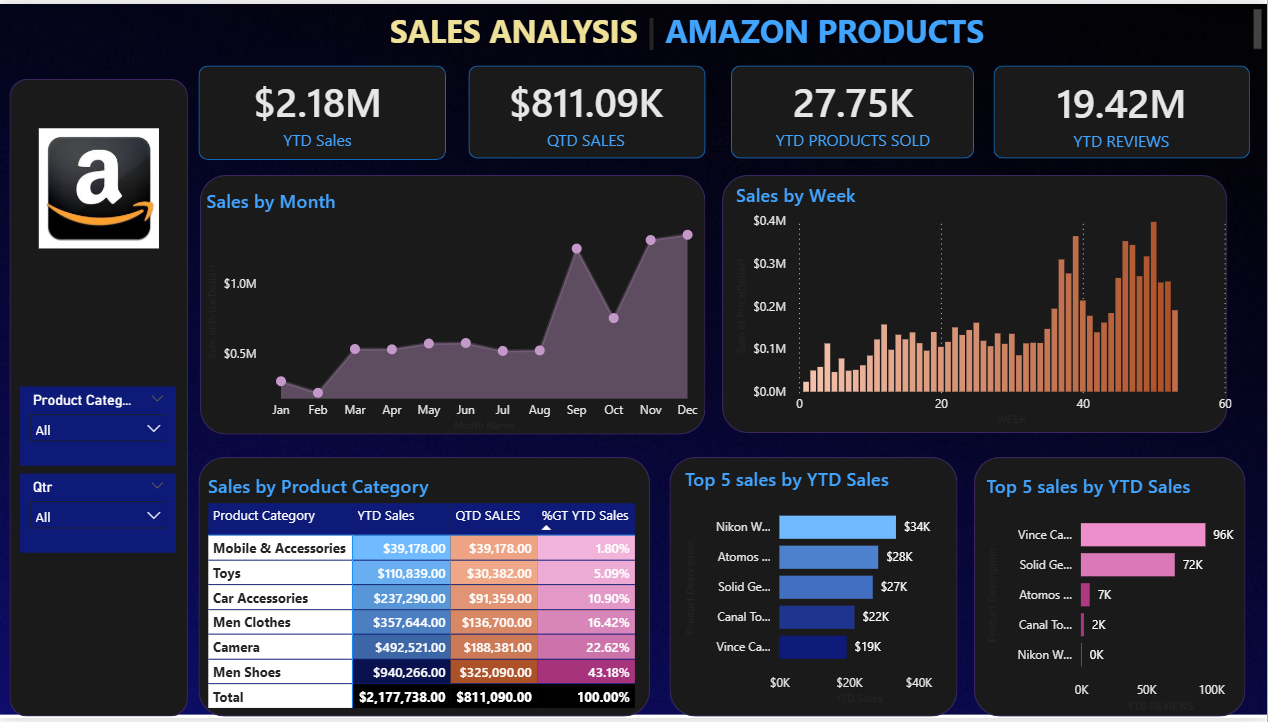

The page's visual inventory and layout, read from the dashboard file:
{"tool":"powerbi","page":{"name":"Page 1","canvas":[1280,720],"ordinal":0},"visuals":[{"type":"shape","box":[10.6,75.7,180.2,643.5],"z":0},{"type":"textbox","box":[389.2,0,890.4,51.5],"z":1000},{"type":"shape","box":[201.4,62.1,249.8,95.4],"z":2000},{"type":"card","fields":{"Values":["Amazon_Combined_Data xlsx - Ama.YTD Sales"]},"box":[190.8,60.6,260.4,95.4],"z":3000},{"type":"shape","box":[473.9,62.1,239.2,93.9],"z":3500},{"type":"card","fields":{"Values":["Amazon_Combined_Data xlsx - Ama.QTD SALES"]},"box":[470.9,60.6,242.3,95.4],"z":4000},{"type":"shape","box":[738.9,62.1,245.3,93.9],"z":6000},{"type":"shape","box":[1003.9,62.1,258.9,93.9],"z":7000},{"type":"card","fields":{"Values":["Amazon_Combined_Data xlsx - Ama.YTD PRODUCTS SOLD"]},"box":[731.4,60.6,260.4,95.4],"z":7001},{"type":"card","fields":{"Values":["Amazon_Combined_Data xlsx - Ama.YTD REVIEWS"]},"box":[1002.4,62.1,260.4,95.4],"z":7002},{"type":"shape","box":[202.9,172.6,510.3,262],"z":7003},{"type":"areaChart","title":"Sales by Month","fields":{"Category":["Date Table.Month Name"],"Y":["Amazon_Combined_Data xlsx - Ama.Price(Dollar)"]},"box":[204.4,186.2,510.3,249.8],"z":7004},{"type":"shape","box":[729.8,172.6,510.3,260.4],"z":7005},{"type":"columnChart","title":"Sales by Week","fields":{"Category":["Date Table.WEEK"],"Y":["Amazon_Combined_Data xlsx - Ama.Price(Dollar)"]},"box":[738.9,180.2,510.3,249.8],"z":7006},{"type":"shape","box":[201.4,457.3,455.8,262],"z":7007},{"type":"pivotTable","title":"Sales by Product Category","fields":{"Rows":["Amazon_Combined_Data xlsx - Ama.Product Category"],"Values":["Amazon_Combined_Data xlsx - Ama.YTD Sales1","Amazon_Combined_Data xlsx - Ama.QTD SALES","Amazon_Combined_Data xlsx - Ama.YTD Sales"]},"box":[205.9,473.9,448.2,245.3],"z":7008},{"type":"shape","box":[676.8,457.3,290.7,262],"z":7009},{"type":"shape","box":[984.2,457.3,274.1,262],"z":7010},{"type":"clusteredBarChart","title":"Top 5 sales by YTD Sales","fields":{"Category":["Amazon_Combined_Data xlsx - Ama.Product Description"],"Y":["Amazon_Combined_Data xlsx - Ama.YTD Sales"]},"box":[687.4,466.4,280.1,245.3],"z":7011},{"type":"clusteredBarChart","title":"Top 5 sales by YTD Sales","fields":{"Category":["Amazon_Combined_Data xlsx - Ama.Product Description"],"Y":["Amazon_Combined_Data xlsx - Ama.YTD REVIEWS"]},"box":[991.8,473.9,280.1,245.3],"z":7012},{"type":"slicer","fields":{"Values":["Amazon_Combined_Data xlsx - Ama.Product Category"]},"box":[21.2,386.1,157.5,80.3],"z":7013},{"type":"slicer","fields":{"Values":["Date Table.Qtr"]},"box":[21.2,473.9,157.5,80.3],"z":7014},{"type":"image","box":[34.8,118.1,131.7,136.3],"z":7015}]}

Visuals, with their boxes in screenshot pixels (x1, y1, x2, y2), scaled from the page's 1280x720 canvas onto the 1272x722 screenshot:
shape: {"left": 11, "top": 76, "right": 190, "bottom": 721}
textbox: {"left": 387, "top": 0, "right": 1271, "bottom": 52}
shape: {"left": 200, "top": 62, "right": 448, "bottom": 158}
card - Amazon_Combined_Data xlsx - Ama.YTD Sales: {"left": 190, "top": 61, "right": 448, "bottom": 156}
shape: {"left": 471, "top": 62, "right": 709, "bottom": 156}
card - Amazon_Combined_Data xlsx - Ama.QTD SALES: {"left": 468, "top": 61, "right": 709, "bottom": 156}
shape: {"left": 734, "top": 62, "right": 978, "bottom": 156}
shape: {"left": 998, "top": 62, "right": 1255, "bottom": 156}
card - Amazon_Combined_Data xlsx - Ama.YTD PRODUCTS SOLD: {"left": 727, "top": 61, "right": 986, "bottom": 156}
card - Amazon_Combined_Data xlsx - Ama.YTD REVIEWS: {"left": 996, "top": 62, "right": 1255, "bottom": 158}
shape: {"left": 202, "top": 173, "right": 709, "bottom": 436}
"Sales by Month" areaChart: {"left": 203, "top": 187, "right": 710, "bottom": 437}
shape: {"left": 725, "top": 173, "right": 1232, "bottom": 434}
"Sales by Week" columnChart: {"left": 734, "top": 181, "right": 1241, "bottom": 431}
shape: {"left": 200, "top": 459, "right": 653, "bottom": 721}
"Sales by Product Category" pivotTable: {"left": 205, "top": 475, "right": 650, "bottom": 721}
shape: {"left": 673, "top": 459, "right": 961, "bottom": 721}
shape: {"left": 978, "top": 459, "right": 1250, "bottom": 721}
"Top 5 sales by YTD Sales" clusteredBarChart: {"left": 683, "top": 468, "right": 961, "bottom": 714}
"Top 5 sales by YTD Sales" clusteredBarChart: {"left": 986, "top": 475, "right": 1264, "bottom": 721}
slicer - Amazon_Combined_Data xlsx - Ama.Product Category: {"left": 21, "top": 387, "right": 178, "bottom": 468}
slicer - Date Table.Qtr: {"left": 21, "top": 475, "right": 178, "bottom": 556}
image: {"left": 35, "top": 118, "right": 165, "bottom": 255}
